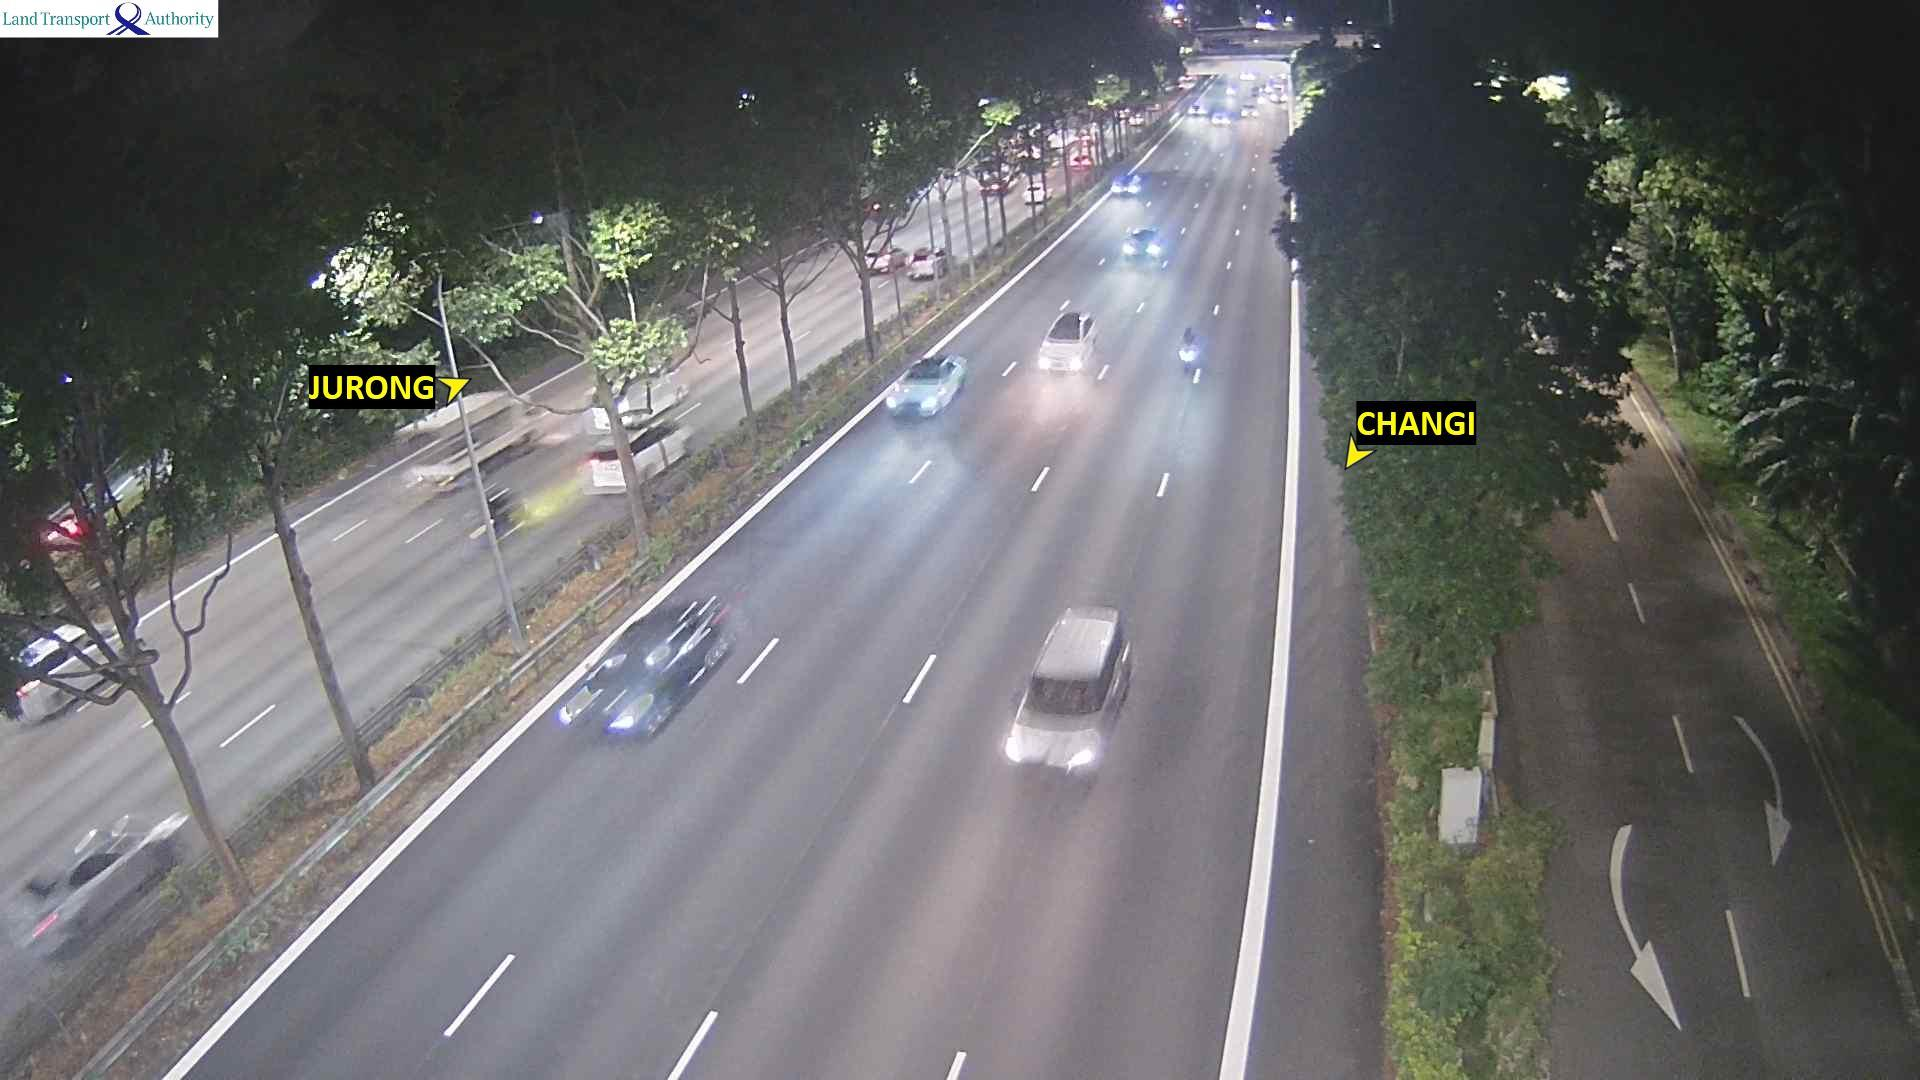cars: (556, 592, 735, 741), (22, 808, 191, 960), (1002, 603, 1133, 781), (11, 618, 157, 725), (30, 446, 173, 553), (582, 419, 692, 495), (589, 368, 688, 433), (884, 353, 967, 419), (1036, 305, 1098, 375), (589, 390, 651, 433), (1120, 225, 1168, 268), (1520, 309, 1559, 356), (905, 243, 947, 280), (1601, 243, 1636, 284), (864, 243, 906, 274), (1109, 170, 1142, 196), (1022, 181, 1052, 204), (978, 175, 1010, 196), (1068, 146, 1096, 170), (1209, 108, 1233, 127), (1185, 98, 1209, 116), (1238, 98, 1258, 117), (1176, 74, 1197, 92), (1267, 90, 1291, 104), (1127, 112, 1147, 128), (1238, 69, 1257, 84), (1224, 83, 1241, 96)
motorcycle: (1178, 326, 1203, 384)
trucks: (392, 389, 545, 493)
